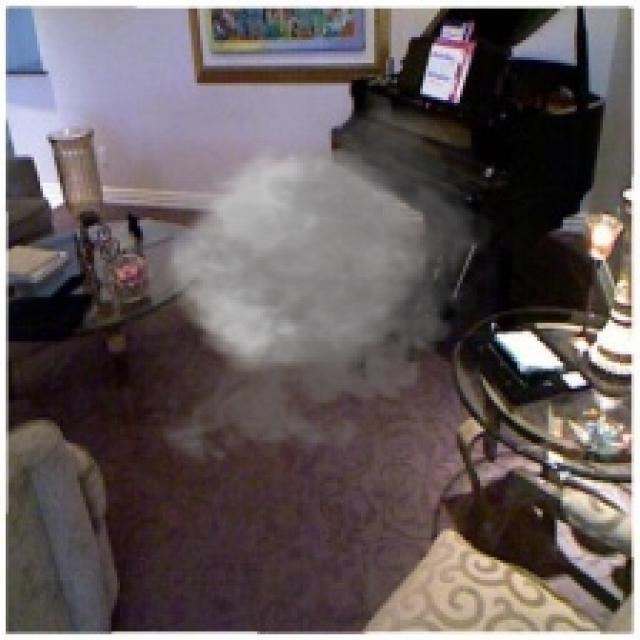Smoke: (94, 92, 506, 474)
